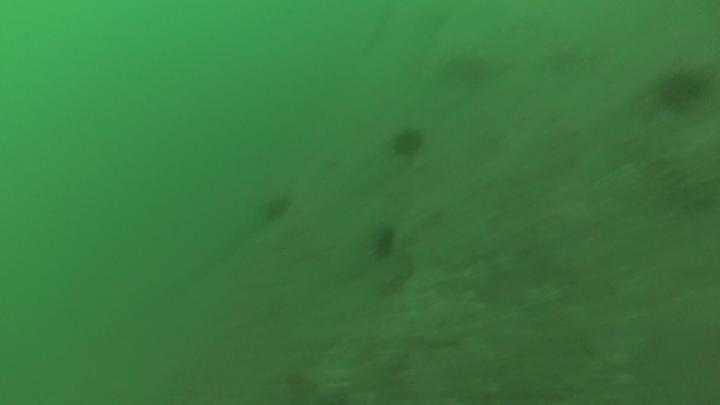echinus: (383, 123, 428, 164), (364, 220, 400, 264), (262, 193, 292, 222)
starfish: (648, 65, 707, 122)
